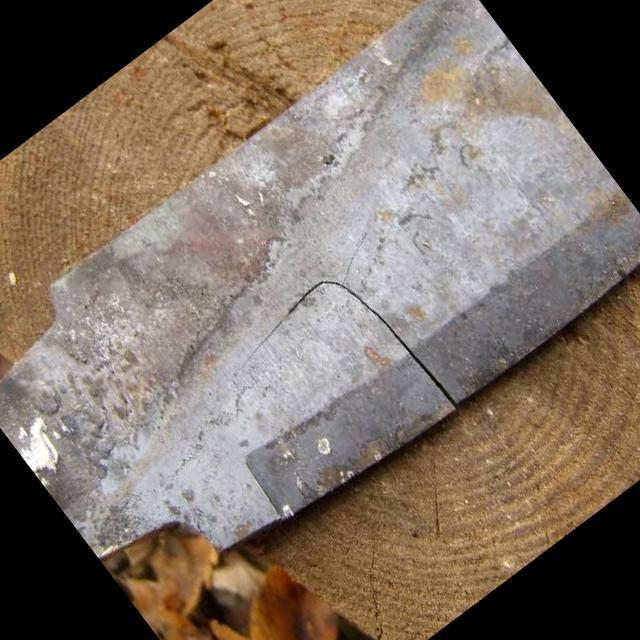defect: (240, 273, 458, 407)
